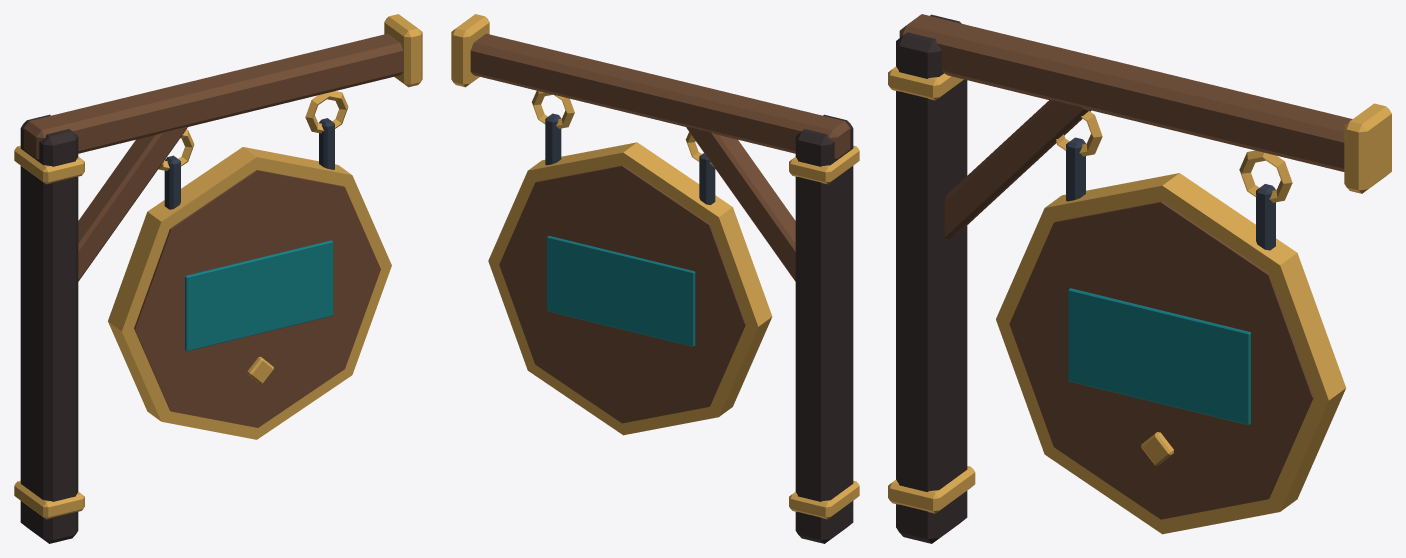
File: 20_Hanging_Shop_Sign.glb
3 renders of one model, left to right at view 1: azimuth 30°, elevation 25°; view 2: azimuth 150°, elevation 25°; view 3: azimuth 330°, elevation 25°, orthographic. The views are drawn at different scales.
Parts seen in each view (by area): view 1: 20_Hanging_Shop_Sign__Body; view 2: 20_Hanging_Shop_Sign__Body; view 3: 20_Hanging_Shop_Sign__Body.
Part boxes in pixels (bbox=[...]): 20_Hanging_Shop_Sign__Body: bbox=[14, 14, 422, 543]; 20_Hanging_Shop_Sign__Body: bbox=[451, 14, 859, 543]; 20_Hanging_Shop_Sign__Body: bbox=[888, 14, 1391, 543].
Bounding box in the file's own units: 2.84 × 3 × 0.42.
1 material, 1 textured.
